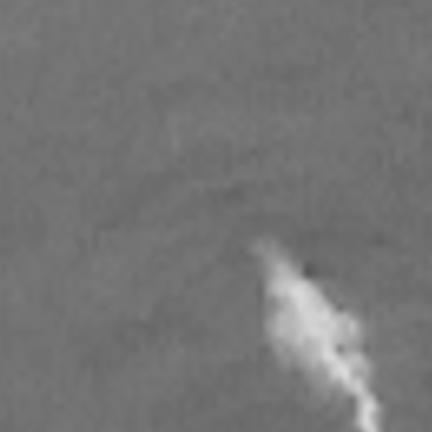flukeprints: (254, 242, 381, 431)
